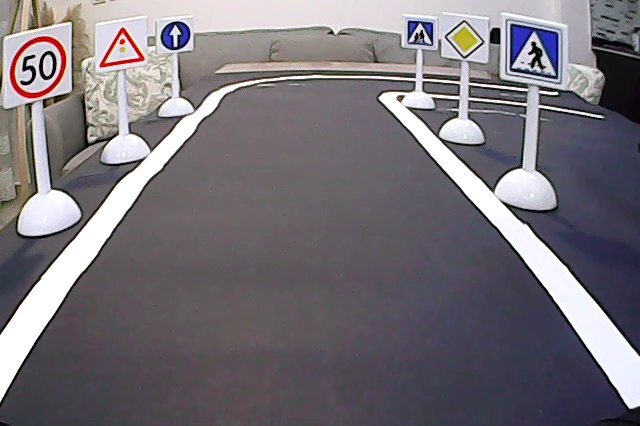pedestrian crossing: (503, 16, 565, 85)
red light: (99, 24, 147, 69)
school crossing: (403, 17, 438, 49)
speed limit 50: (4, 34, 71, 101)
